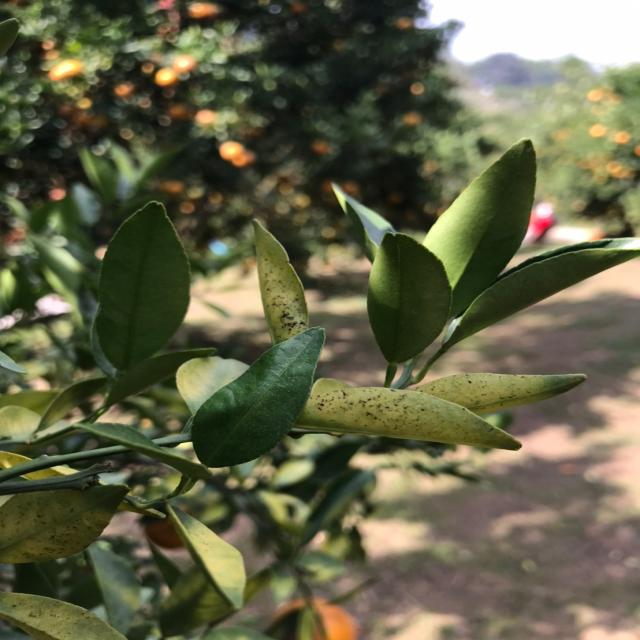melanose: (300, 386, 504, 452), (0, 483, 133, 569), (240, 228, 326, 346), (419, 367, 587, 412), (0, 590, 132, 640)
